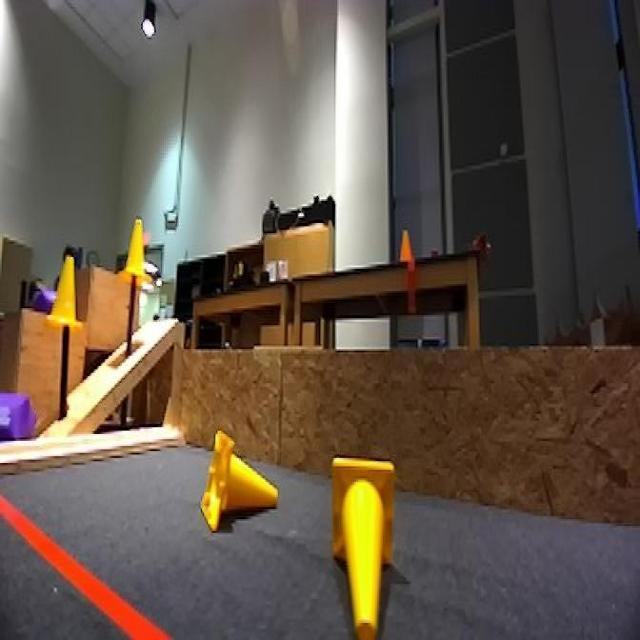frc_cone: (329, 454, 394, 640), (198, 431, 284, 536), (49, 252, 83, 339), (123, 221, 156, 300)
frc_cube: (0, 392, 29, 451), (22, 286, 62, 315)
